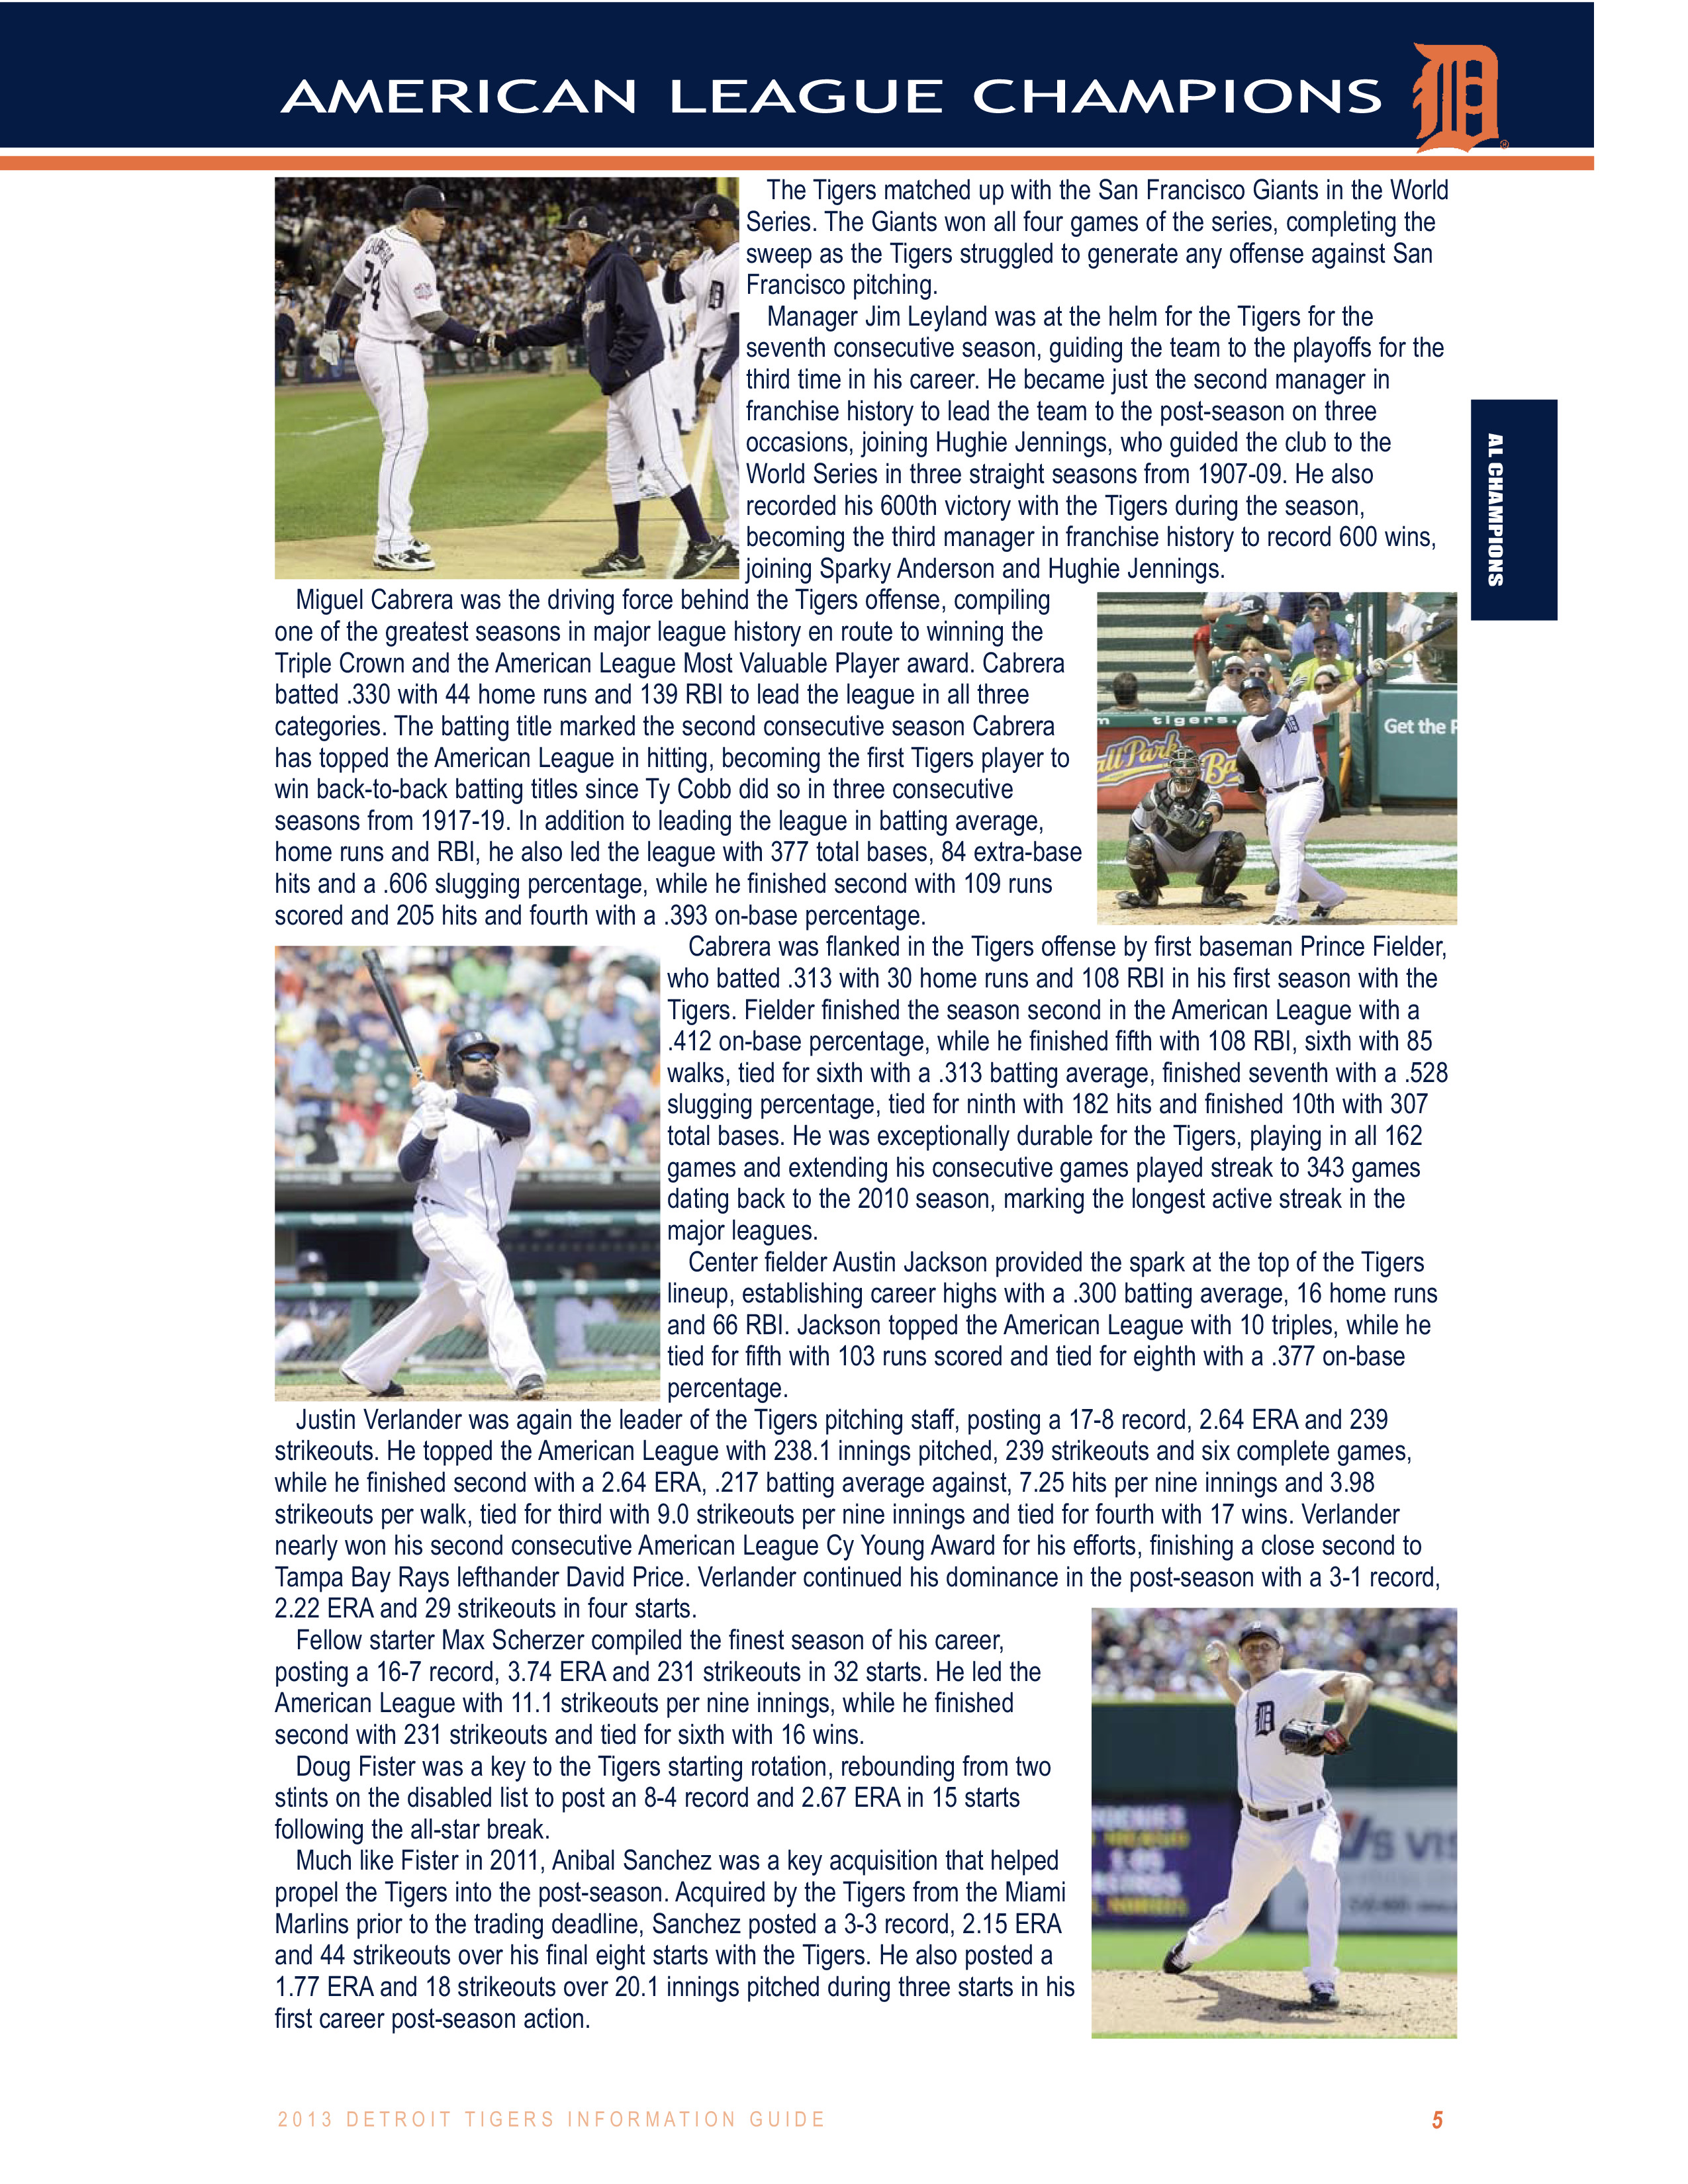figure: (266, 170, 743, 576), (266, 940, 663, 1408), (1092, 1601, 1457, 2040), (1096, 592, 1457, 925)
text: (254, 583, 1076, 936), (277, 1418, 1445, 1622), (672, 945, 1442, 1225), (750, 292, 1449, 565), (250, 1645, 1062, 1842), (270, 1854, 1076, 2037), (668, 1252, 1452, 1376), (746, 167, 1456, 291)
